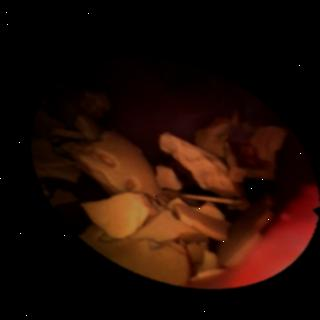stone: (33, 80, 284, 280)
tissue: (69, 58, 278, 152), (182, 135, 313, 284)
